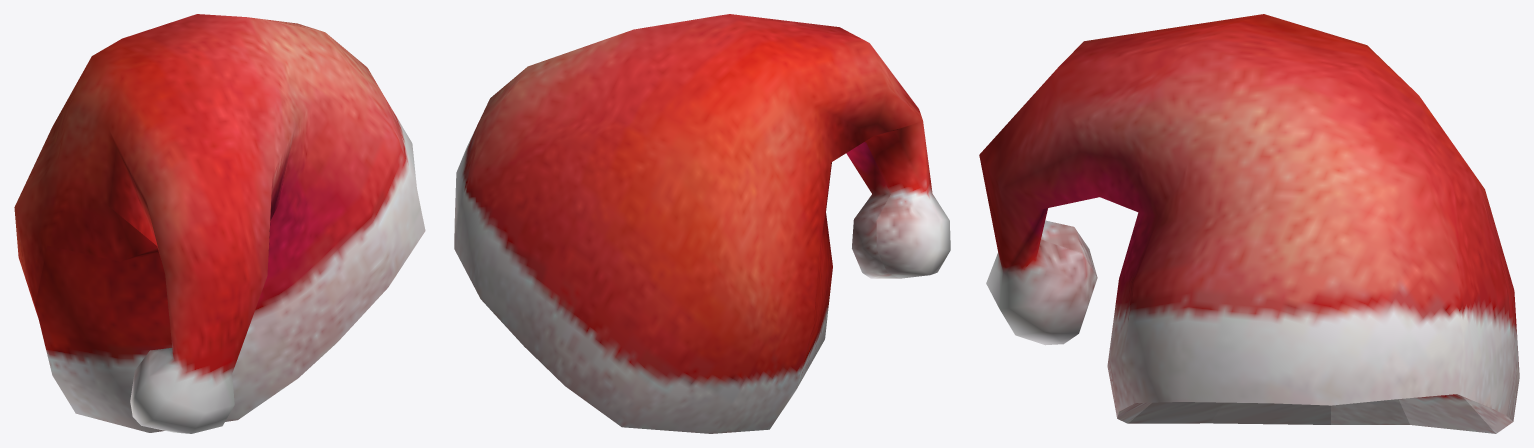
Rendered from chrhat_0000001.FBX.
3 views of the same model, side by side, from view 1: azimuth 30°, elevation 25°; view 2: azimuth 150°, elevation 25°; view 3: azimuth 270°, elevation 25° (orthographic). The views are drawn at different scales.
Visible parts, largest first — view 1: chrhat_0000001; view 2: chrhat_0000001; view 3: chrhat_0000001.
Part boxes in pixels (bbox=[...]): chrhat_0000001: bbox=[14, 14, 425, 433]; chrhat_0000001: bbox=[454, 14, 950, 433]; chrhat_0000001: bbox=[979, 14, 1519, 433].
Size of the model in its own units: 31.08 by 29.19 by 32.9.
